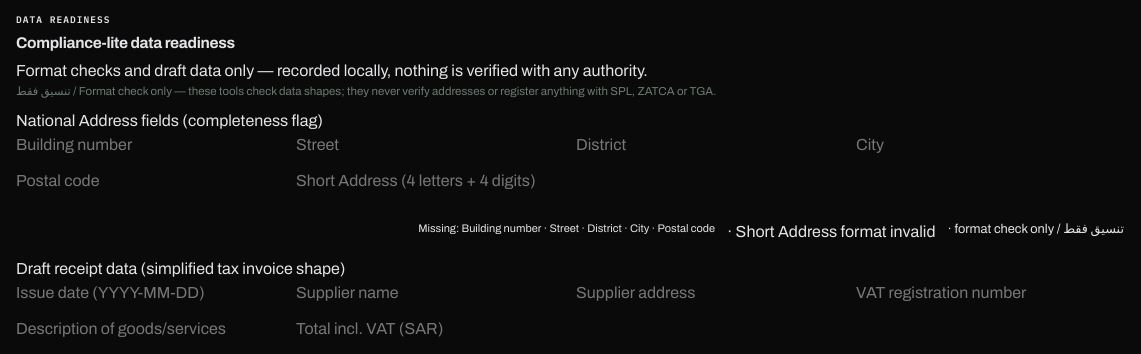
Test: ComplianceLiteView › flags complete address + valid short address (EN)
In the field labelled "Building number": (150, 145) [16,133,284,157], type "8227"
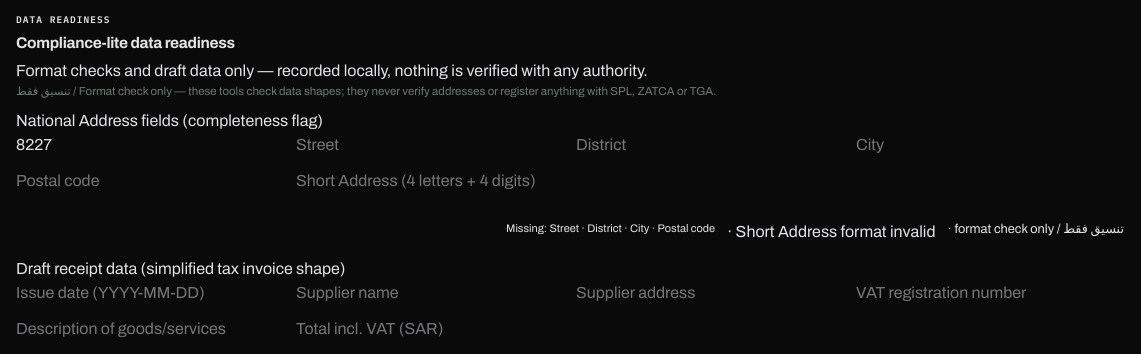
In the field labelled "Street": (430, 145) [296,133,564,157], type "King Fahd Rd"
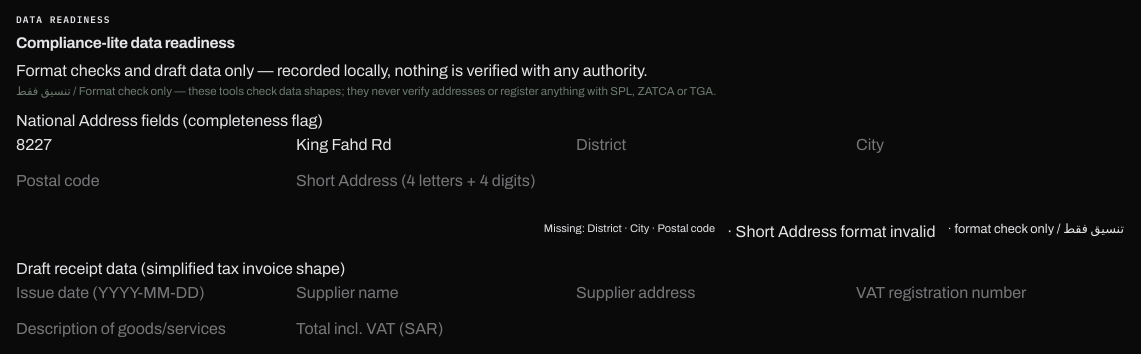
In the field labelled "District": (710, 145) [576,133,844,157], type "Al Olaya"
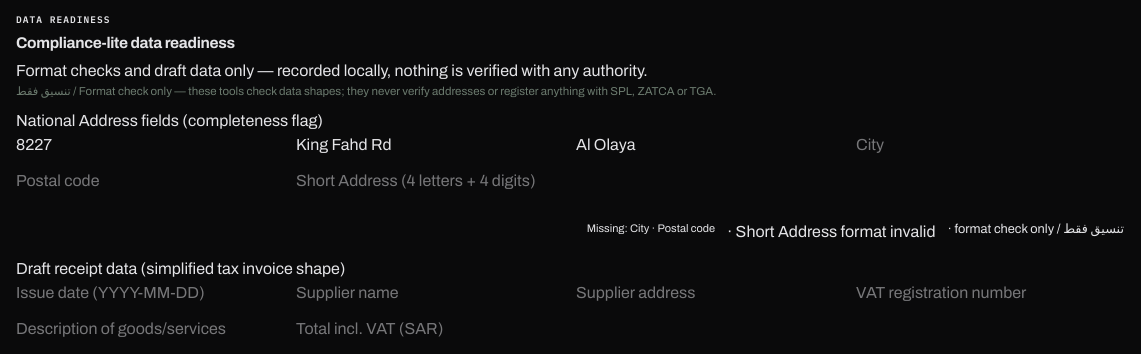
In the field labelled "City": (990, 145) [856,133,1124,157], type "Riyadh"
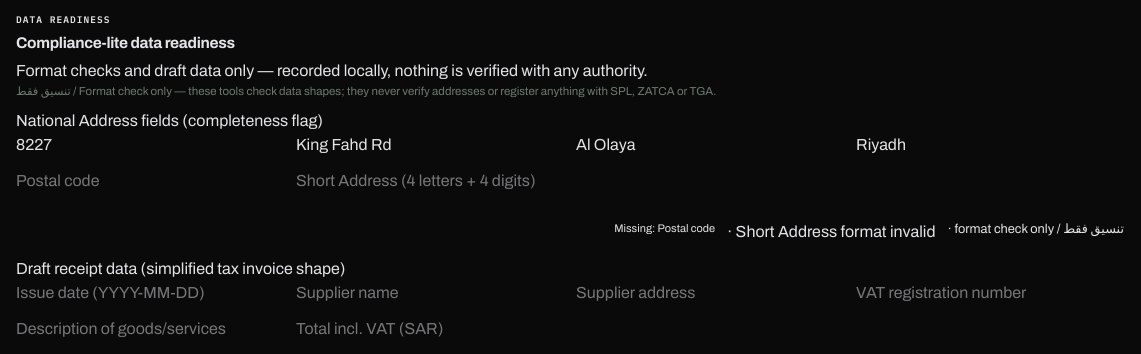
In the field labelled "Postal code": (150, 181) [16,169,284,193], type "12212"
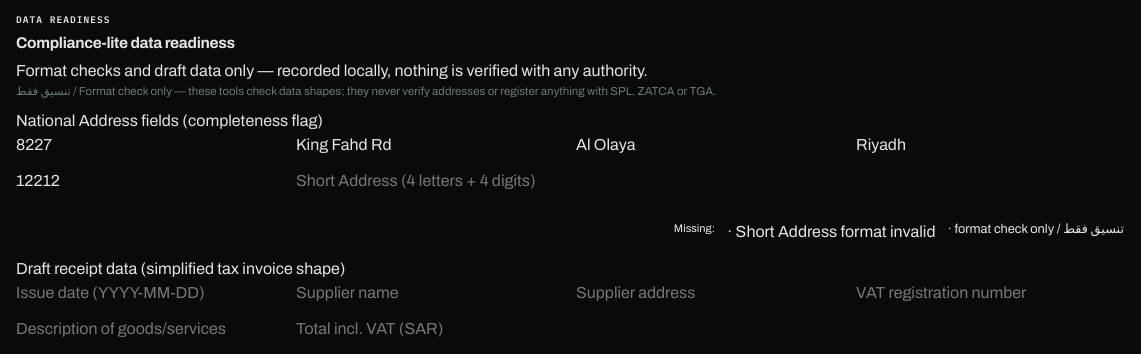
In the field labelled "Short Address (4 letters + 4 digits)": (430, 181) [296,169,564,193], type "RDKA2431"
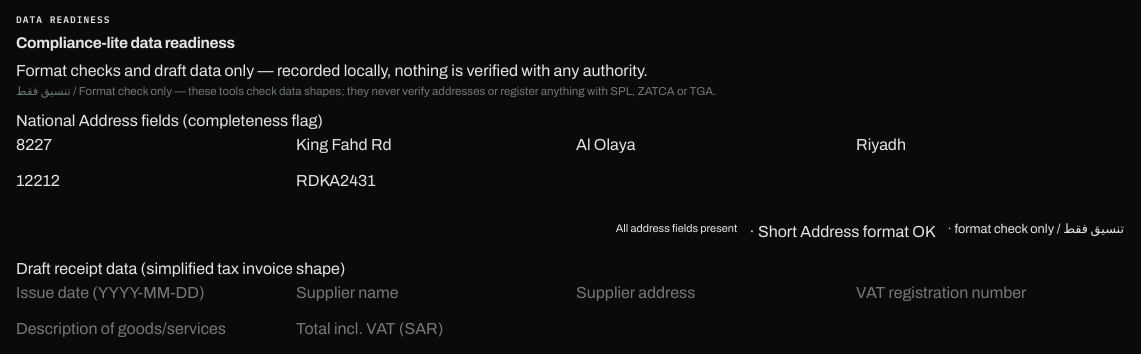
Expected: the element with test id "address-status" shows "All address fields present", [616,222,737,234]
